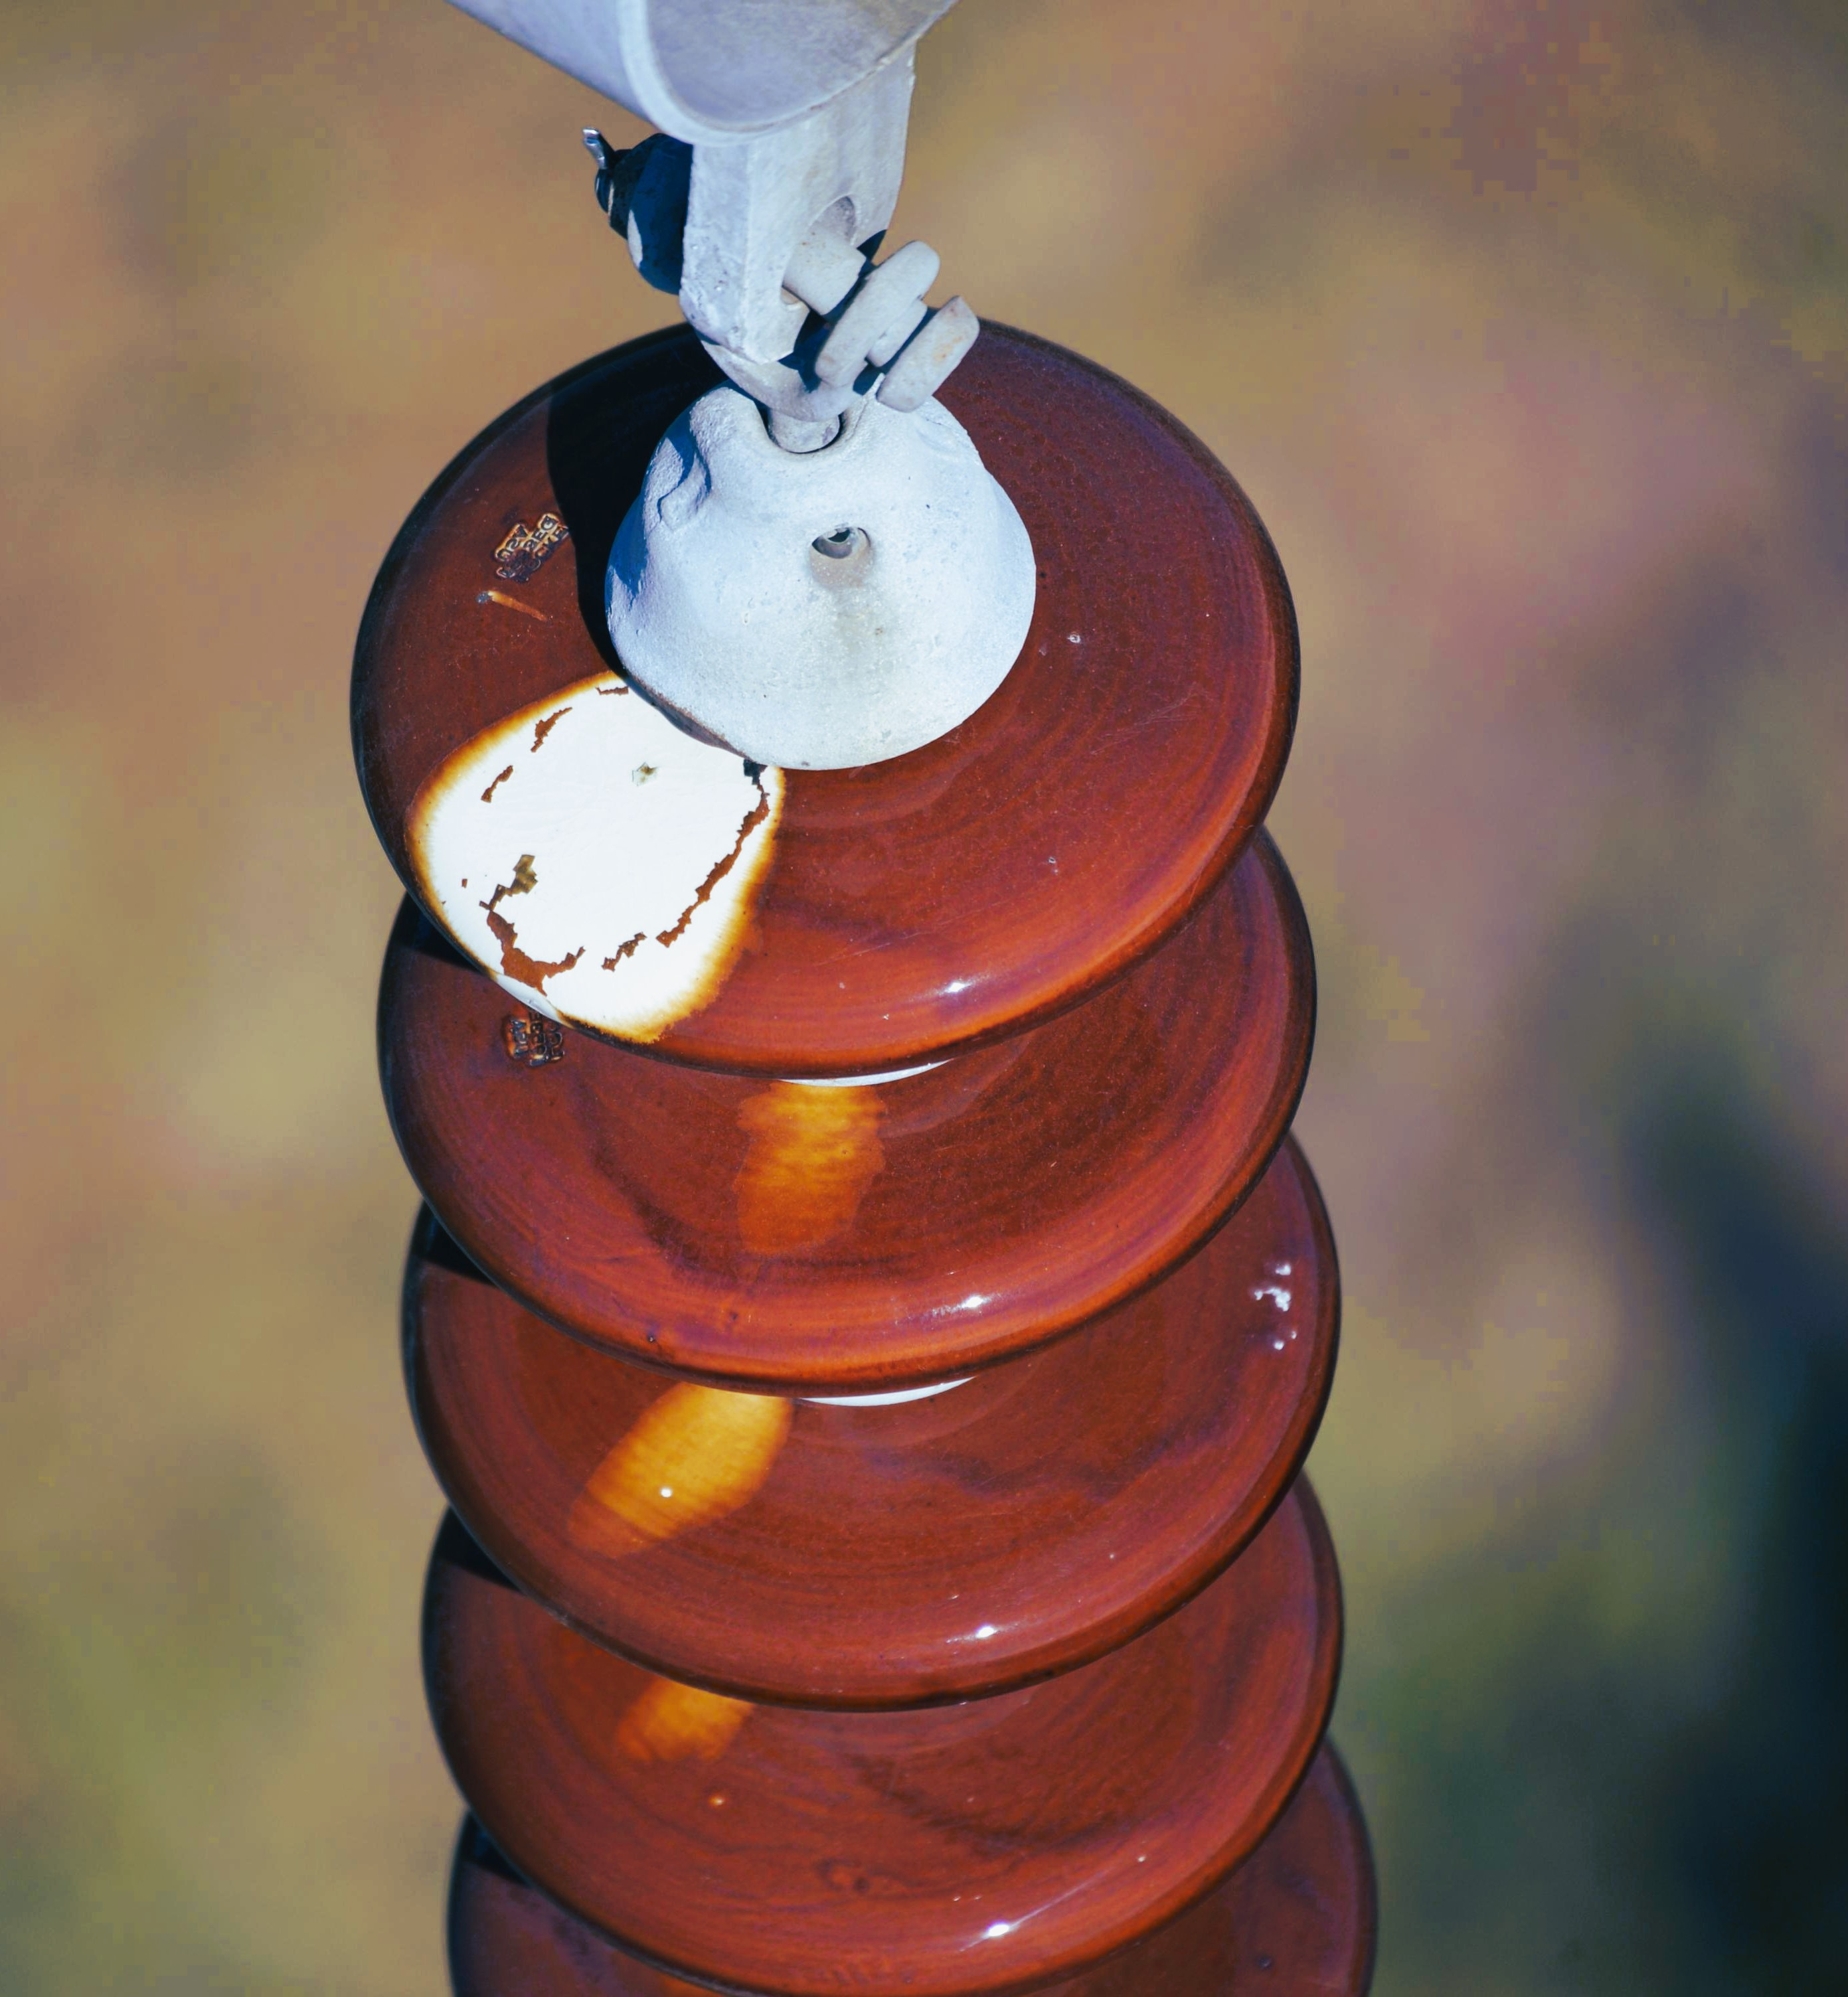Insulator flashover: (284, 301, 1302, 1091)
